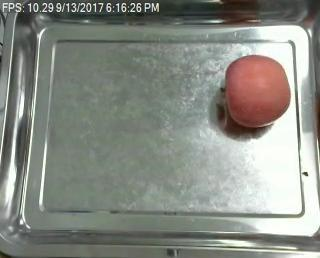apple: (222, 54, 297, 128)
